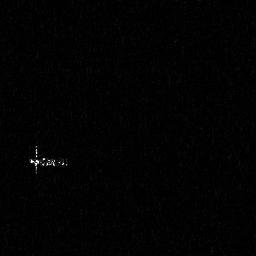ship: (26, 144, 71, 177)
